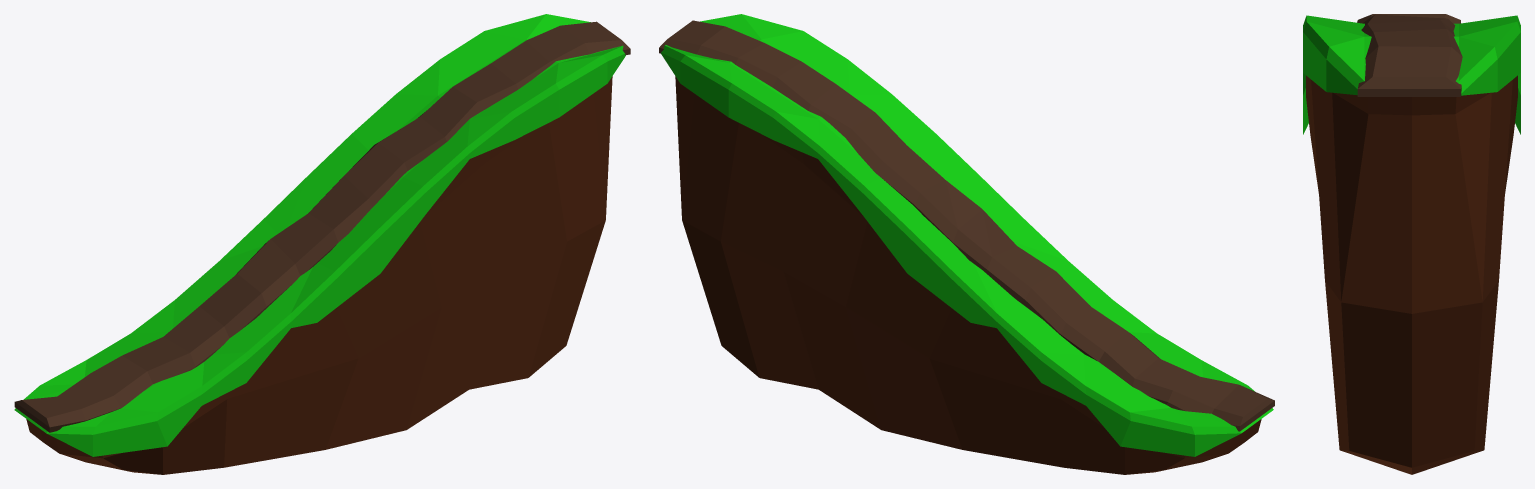
The model's file is block_up1.fbx.
The picture shows the model from 3 angles, left to right: view 1: azimuth 30°, elevation 25°; view 2: azimuth 150°, elevation 25°; view 3: azimuth 270°, elevation 25°; orthographic projection. The views are drawn at different scales.
Parts seen in each view (by area): view 1: block_up1; view 2: block_up1; view 3: block_up1.
Boxes of the visible parts, left/top/right/bottom form: block_up1: left=14, top=14, right=630, bottom=474; block_up1: left=659, top=14, right=1274, bottom=474; block_up1: left=1303, top=14, right=1520, bottom=474.
Size of the model in its own units: 1661 by 940 by 365.
